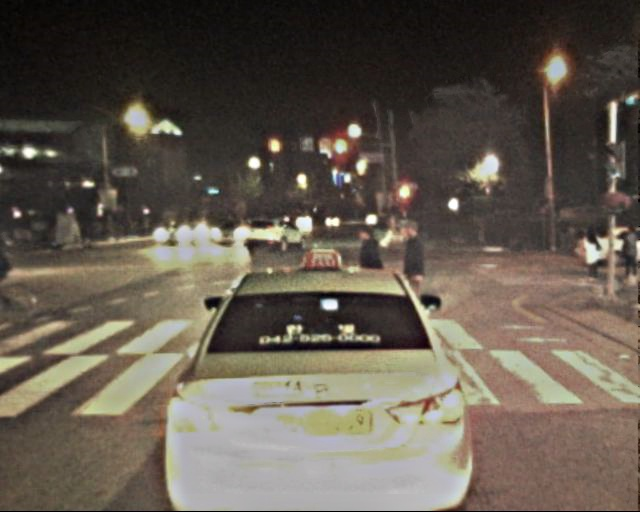person: (394, 218, 437, 323), (349, 222, 391, 324), (1, 220, 37, 309), (579, 227, 604, 287), (617, 223, 640, 286)
